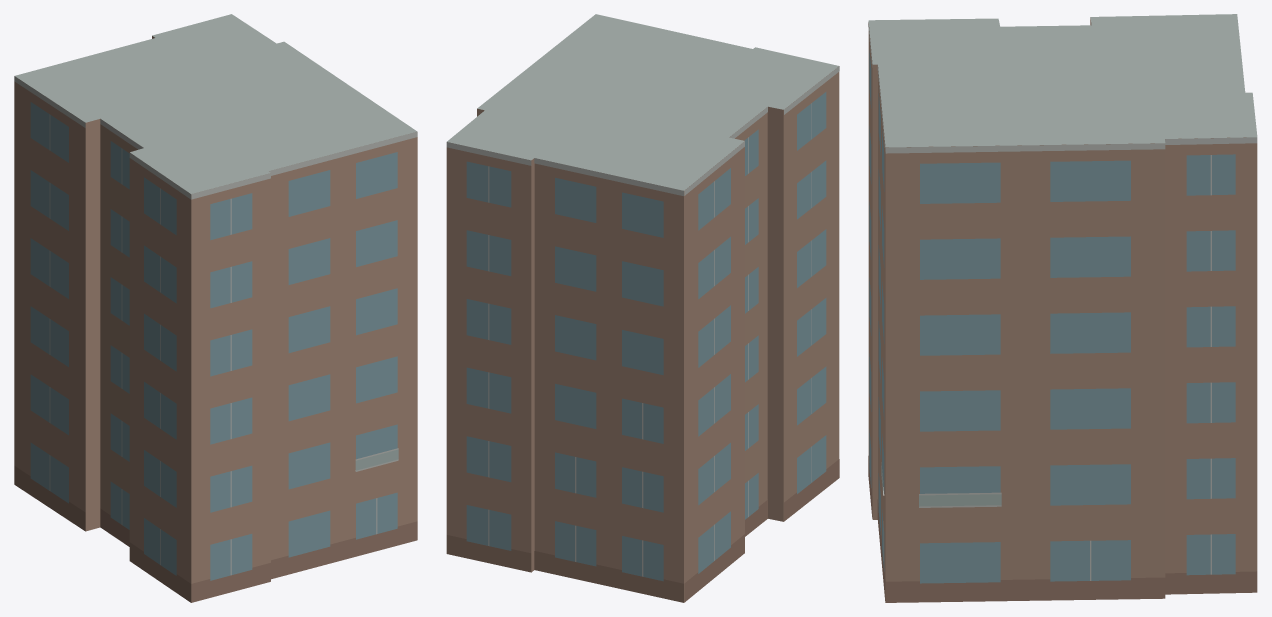
File: survey-upis-32990540.glb
3 views of the same model, side by side, from view 1: azimuth 30°, elevation 25°; view 2: azimuth 150°, elevation 25°; view 3: azimuth 270°, elevation 25° (orthographic). The views are drawn at different scales.
Visible parts, largest first — view 1: survey-upis-32990540.tmp; view 2: survey-upis-32990540.tmp; view 3: survey-upis-32990540.tmp.
Boxes of the visible parts, x1,y1,x2,y2 form: survey-upis-32990540.tmp: (14, 14, 417, 602); survey-upis-32990540.tmp: (446, 14, 839, 602); survey-upis-32990540.tmp: (868, 14, 1257, 602).
Bounding box in the file's own units: 11.51 × 18.3 × 14.17.
